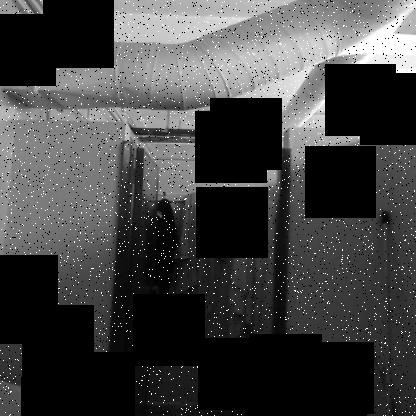Porte: (103, 139, 293, 415)
